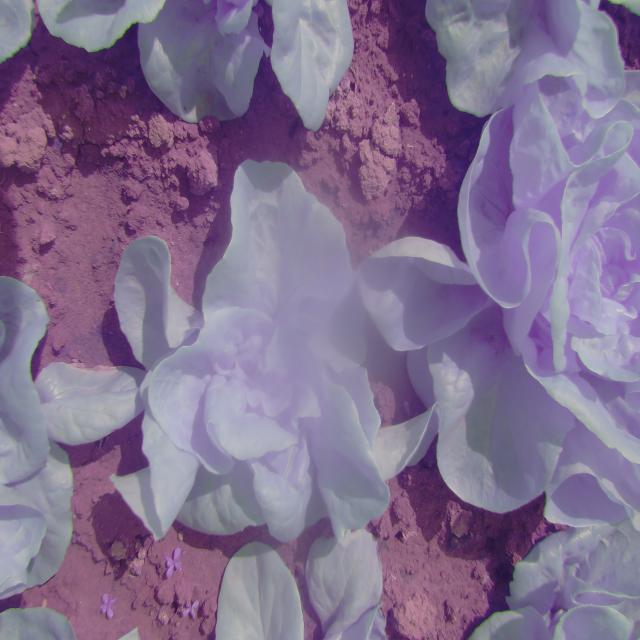vege: (99, 160, 440, 552)
